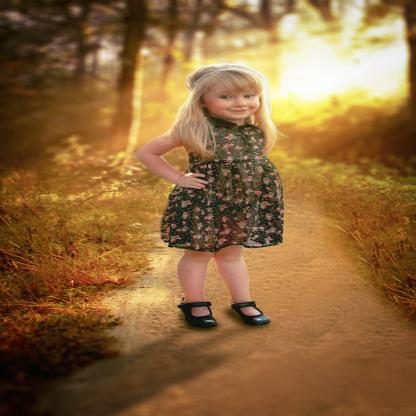Eye: (244, 93, 256, 99), (219, 95, 232, 100)
Mouth: (227, 108, 250, 113)
Nose: (235, 97, 248, 107)
